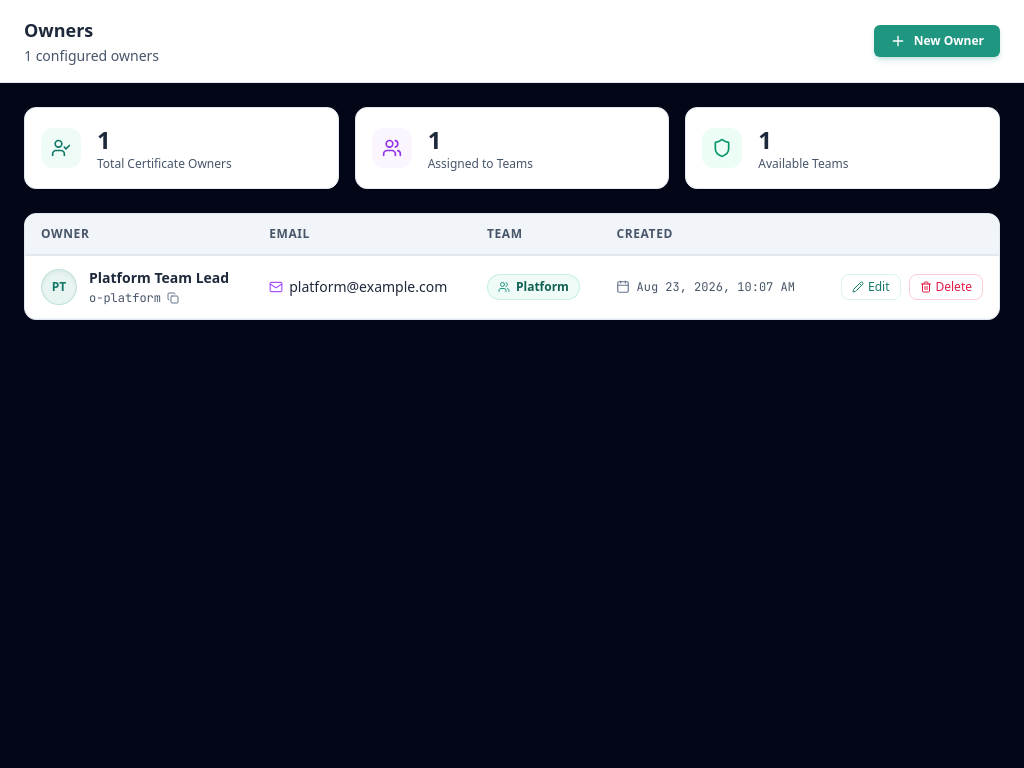
OwnersPage — T-1 page coverage › Edit button opens the EditOwnerModal (B-1 closure)
Expected: the text "Platform Team Lead" is shown, [89,268,229,288]
Click the button "Edit".
click(871, 287)  # box [841,274,900,300]
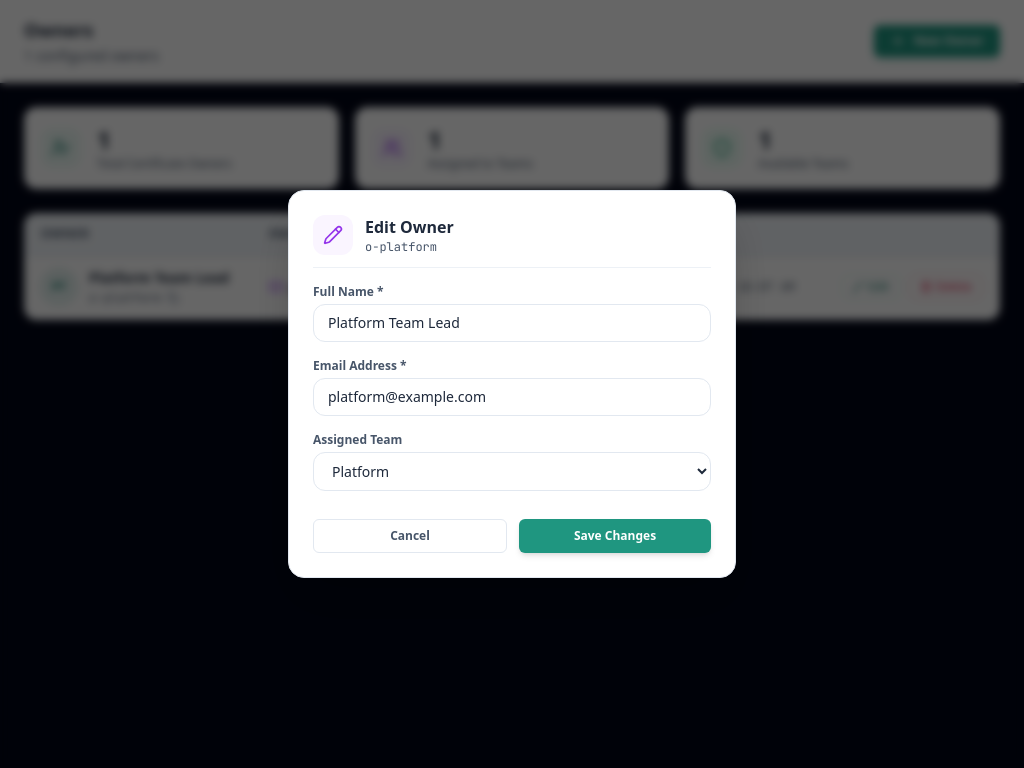
Now the heading "Edit Owner" is shown, box [365,215,454,239]
